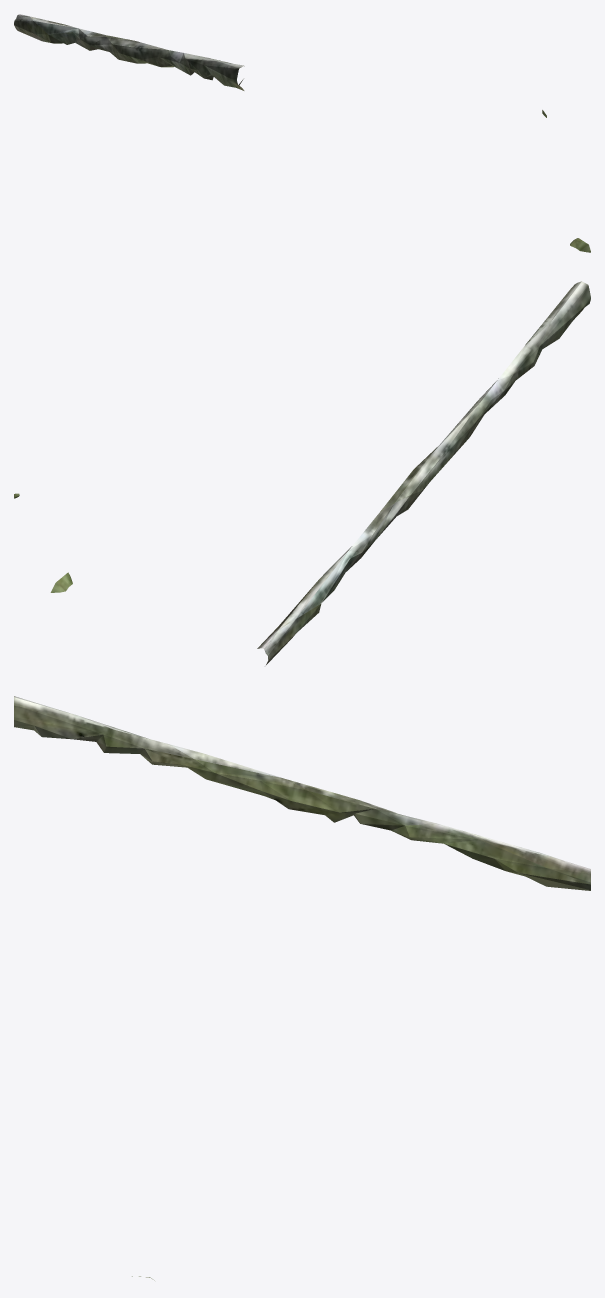
The picture shows the model from 3 angles, top to bottom: view 1: azimuth 30°, elevation 25°; view 2: azimuth 150°, elevation 25°; view 3: azimuth 270°, elevation 25°; orthographic projection. The views are drawn at different scales.
Bounding box in the file's own units: 5.45 × 4.12 × 5.9.
1 material, 1 textured.
